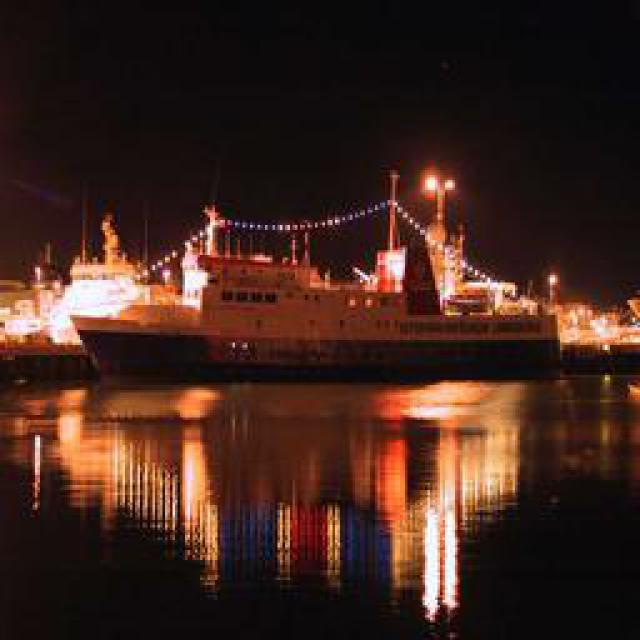Ship: (62, 255, 580, 381)
